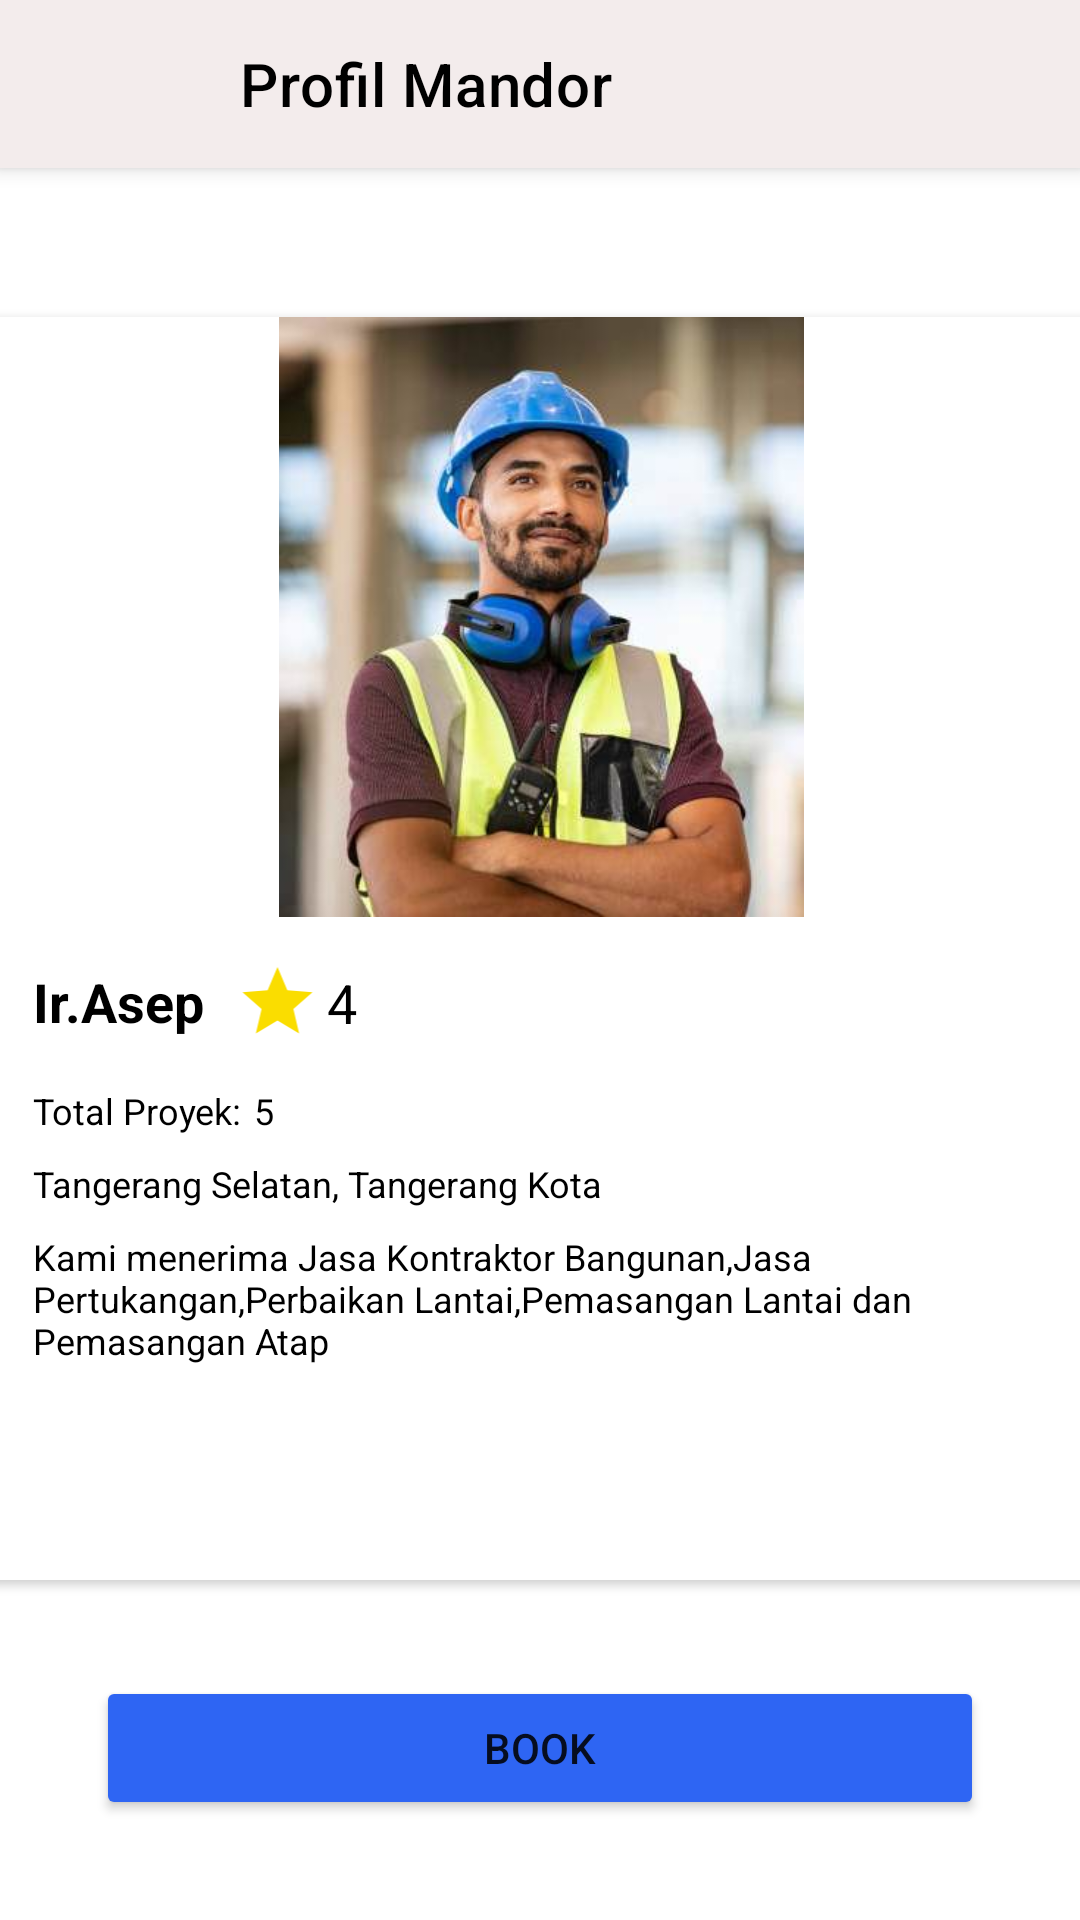

Screen size 1080×1920. Icon name, then its box in pixels as (x1, y1, x2, y2):
star: (242, 967, 313, 1033)
